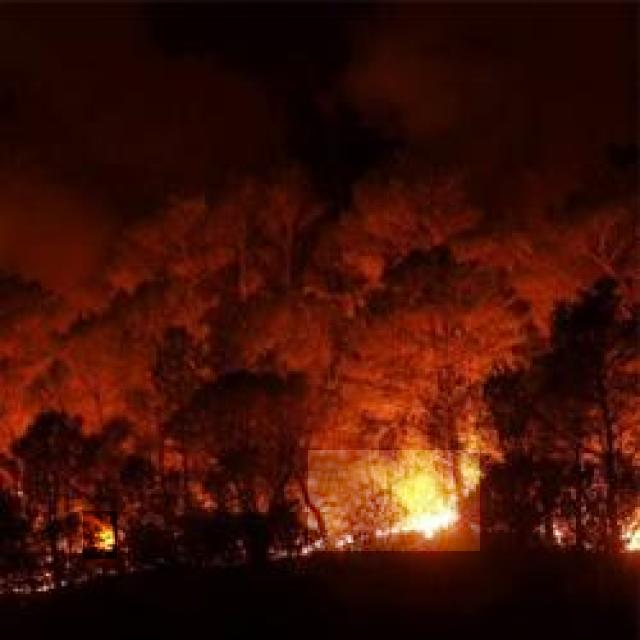Fire: (308, 450, 480, 551), (83, 512, 117, 560)
